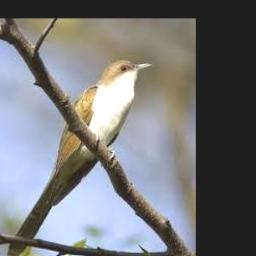Cuckoo: (6, 60, 153, 256)
